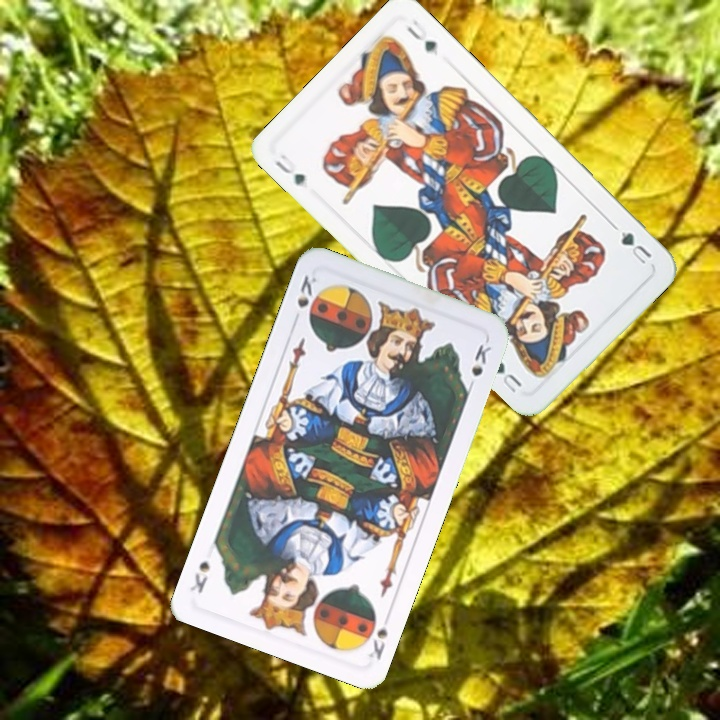GU: (616, 227, 655, 267), (270, 150, 309, 190)
SK: (364, 622, 391, 663), (293, 271, 320, 311)
